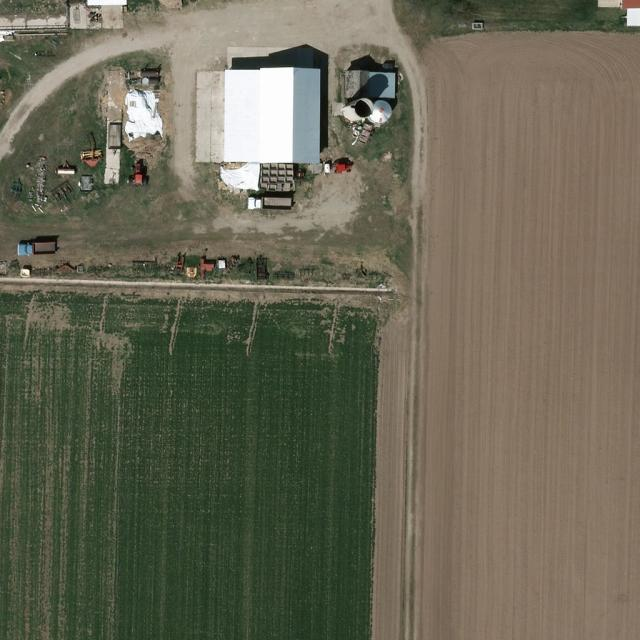vehicle: (248, 196, 294, 212), (17, 242, 58, 258)
